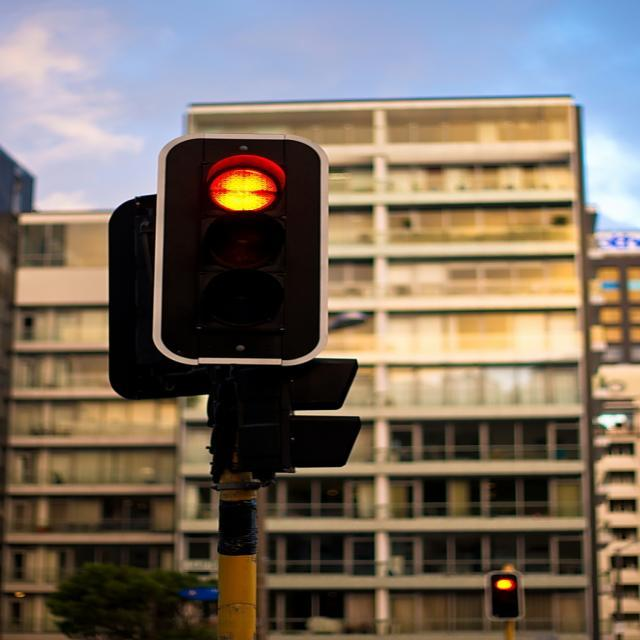traffic light: (163, 137, 319, 354)
